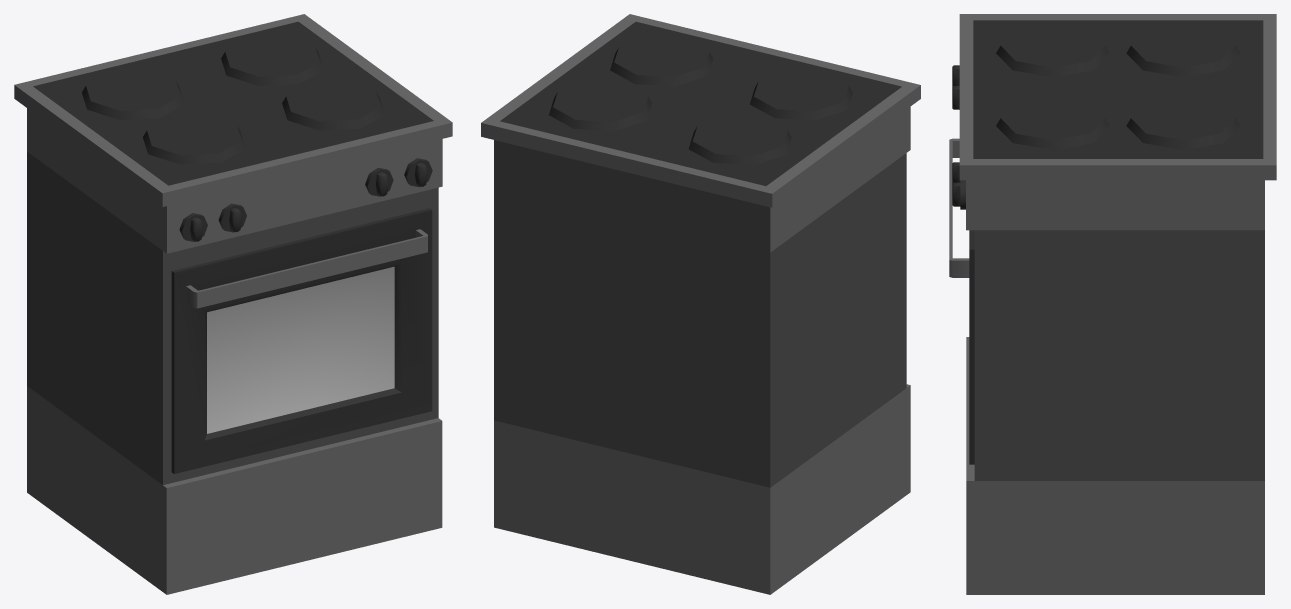
Rendered from Kitchen_Oven_Large.glb.
3 views of the same model, side by side, from view 1: azimuth 30°, elevation 25°; view 2: azimuth 150°, elevation 25°; view 3: azimuth 270°, elevation 25° (orthographic). The views are drawn at different scales.
Parts seen in each view (by area): view 1: Kitchen_Oven_Large; view 2: Kitchen_Oven_Large; view 3: Kitchen_Oven_Large.
Part boxes in pixels (x1,y1,x2,y2): Kitchen_Oven_Large: (14,14,452,594); Kitchen_Oven_Large: (481,14,920,594); Kitchen_Oven_Large: (949,14,1276,594).
Bounding box in the file's own units: 0.5727 × 0.7788 × 0.5234.
Materials: 5 (5 with a texture image).
